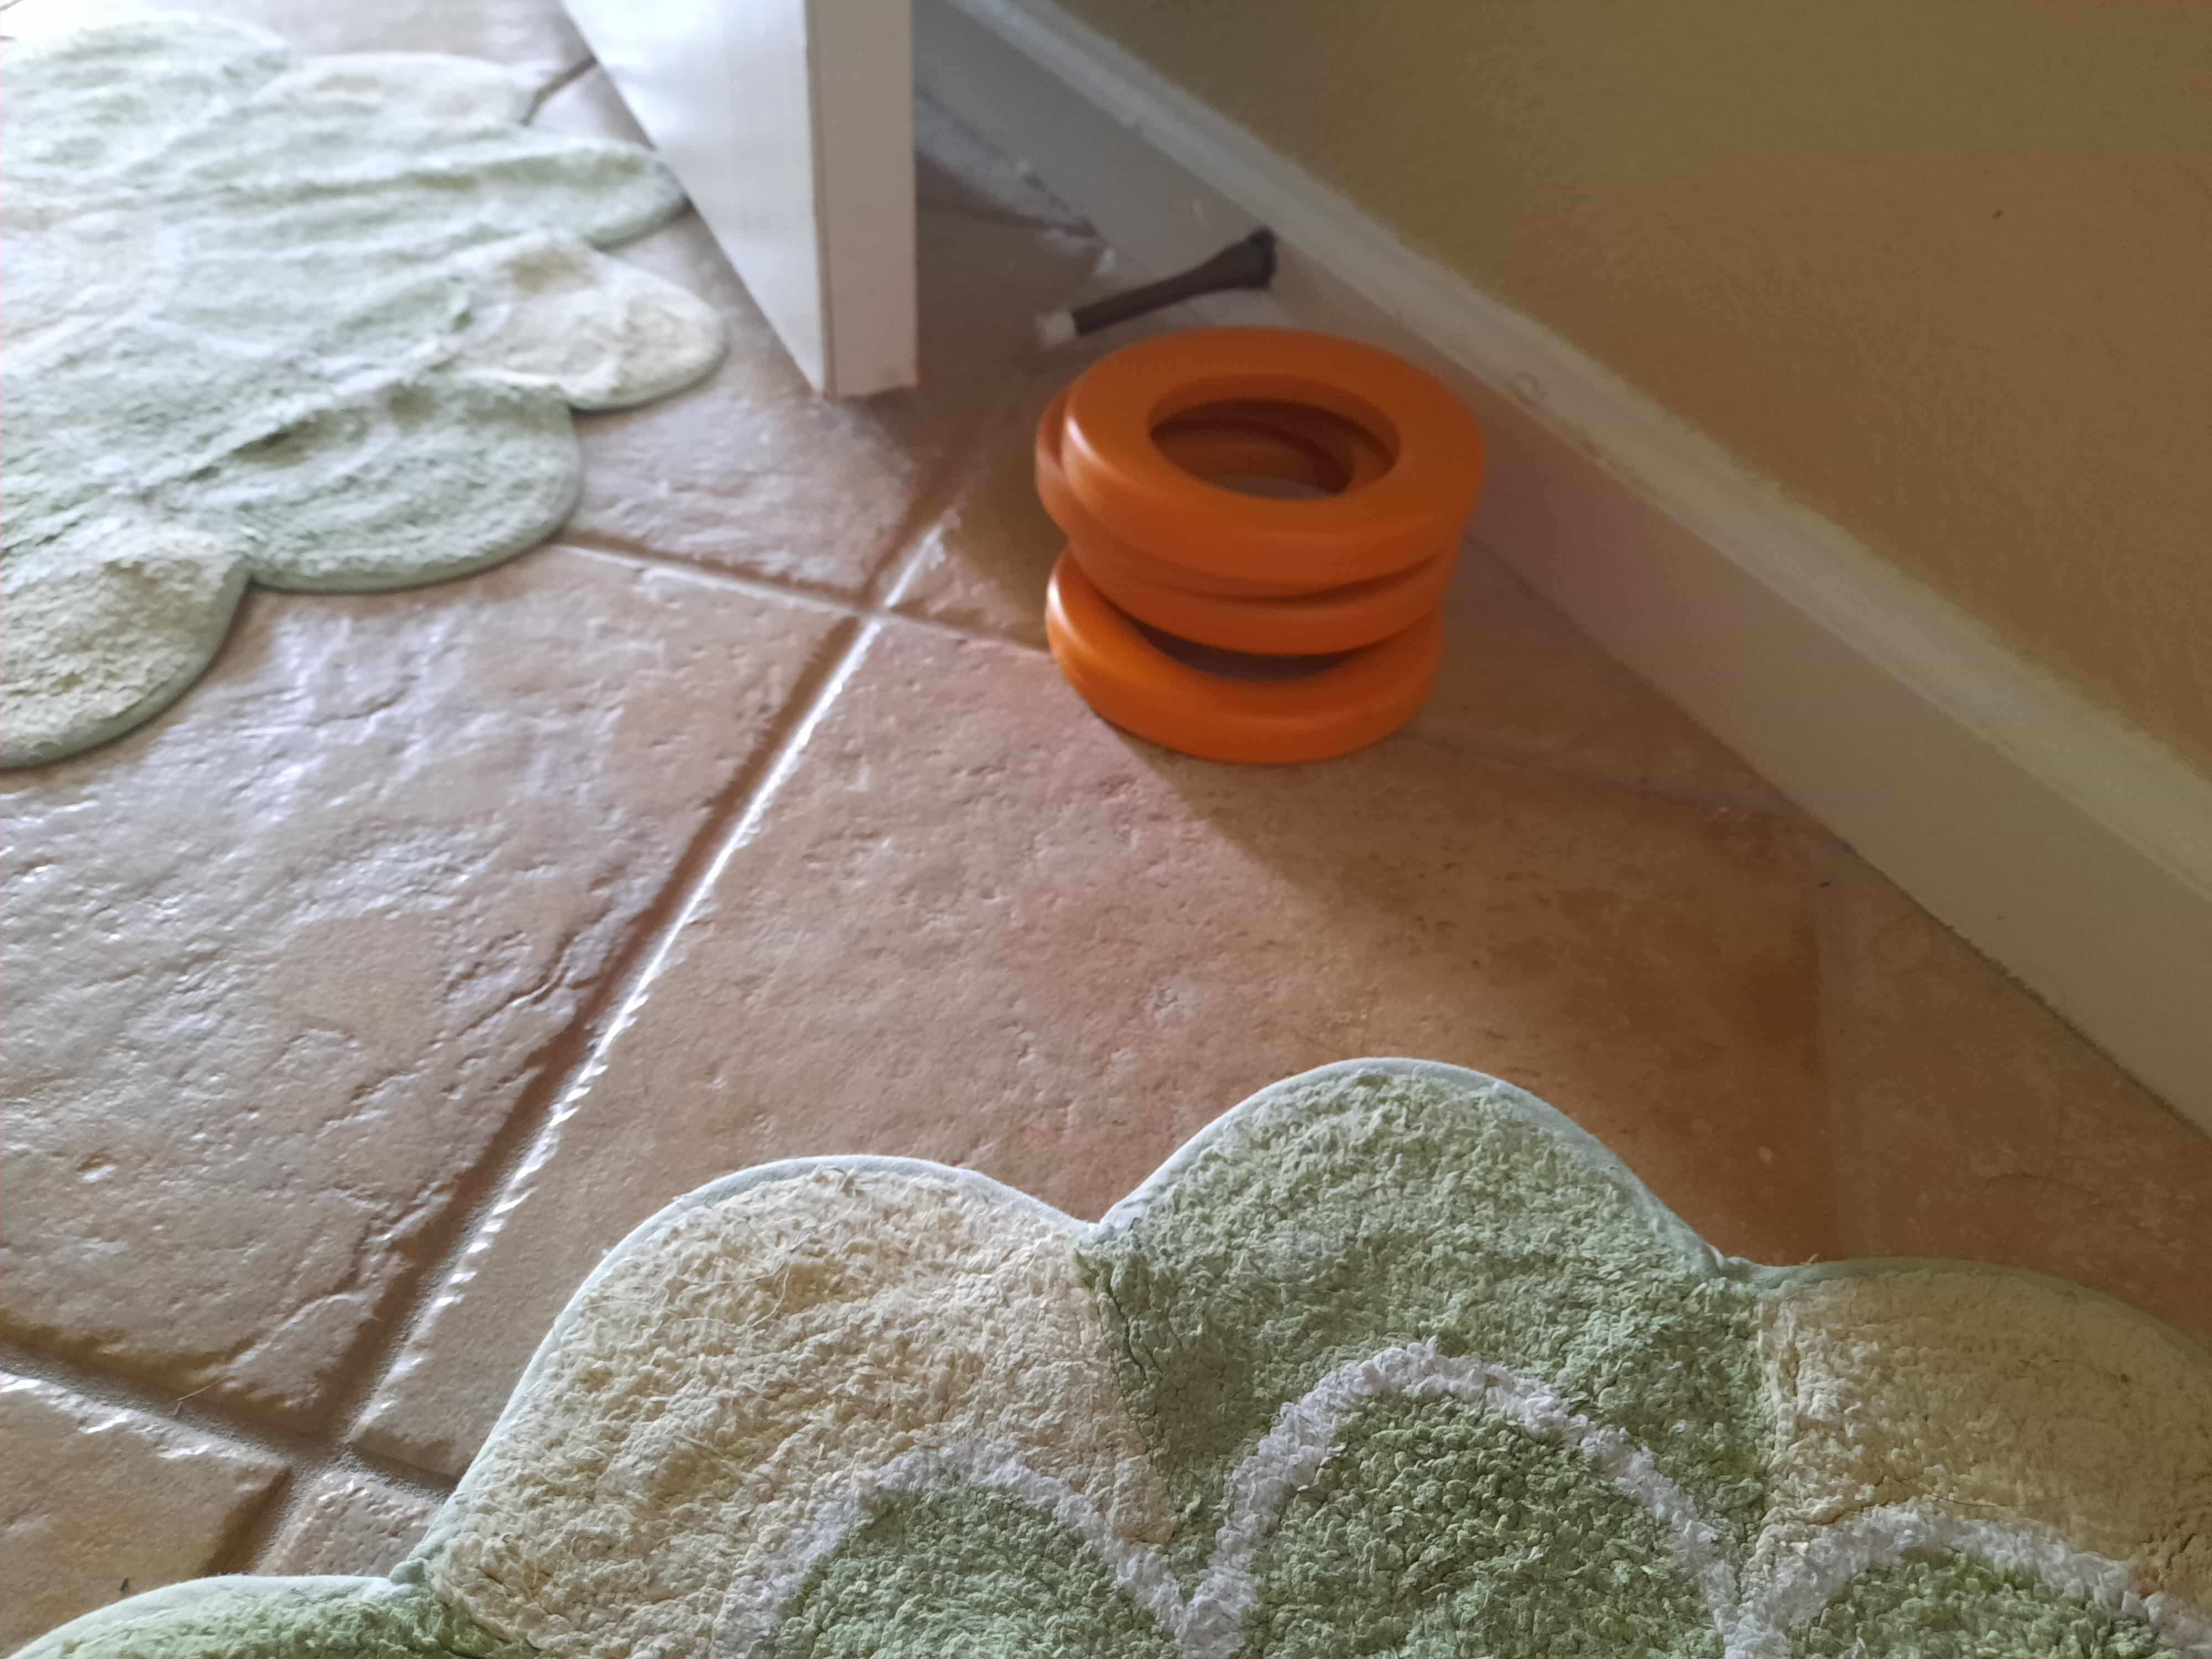FourStack: (1031, 333, 1475, 767)
